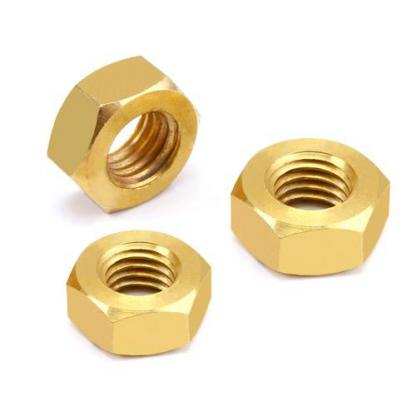FOD: (42, 53, 204, 216), (228, 135, 392, 277), (63, 227, 217, 359)
